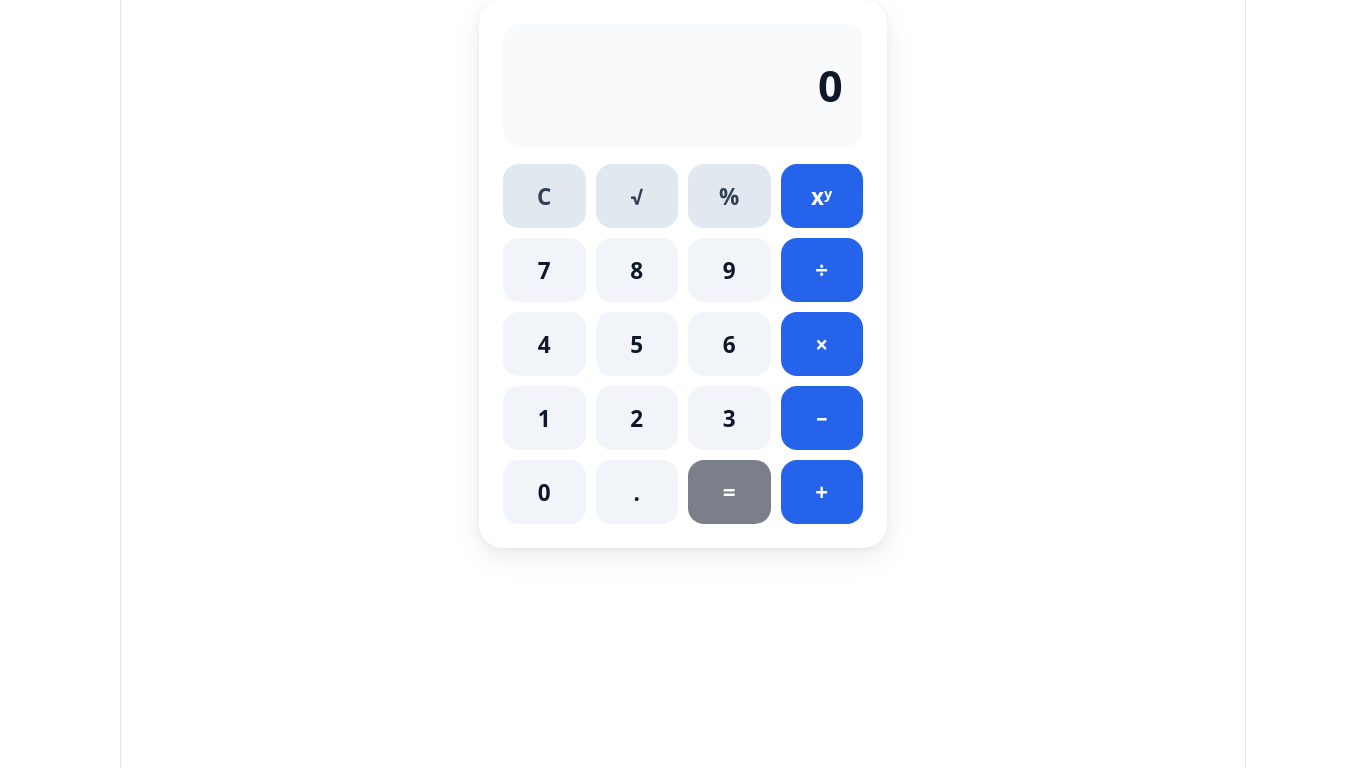
Test: Calculator › calculates exponentiation using the API
Click the button "2": x=637, y=418 [596,386,678,450]
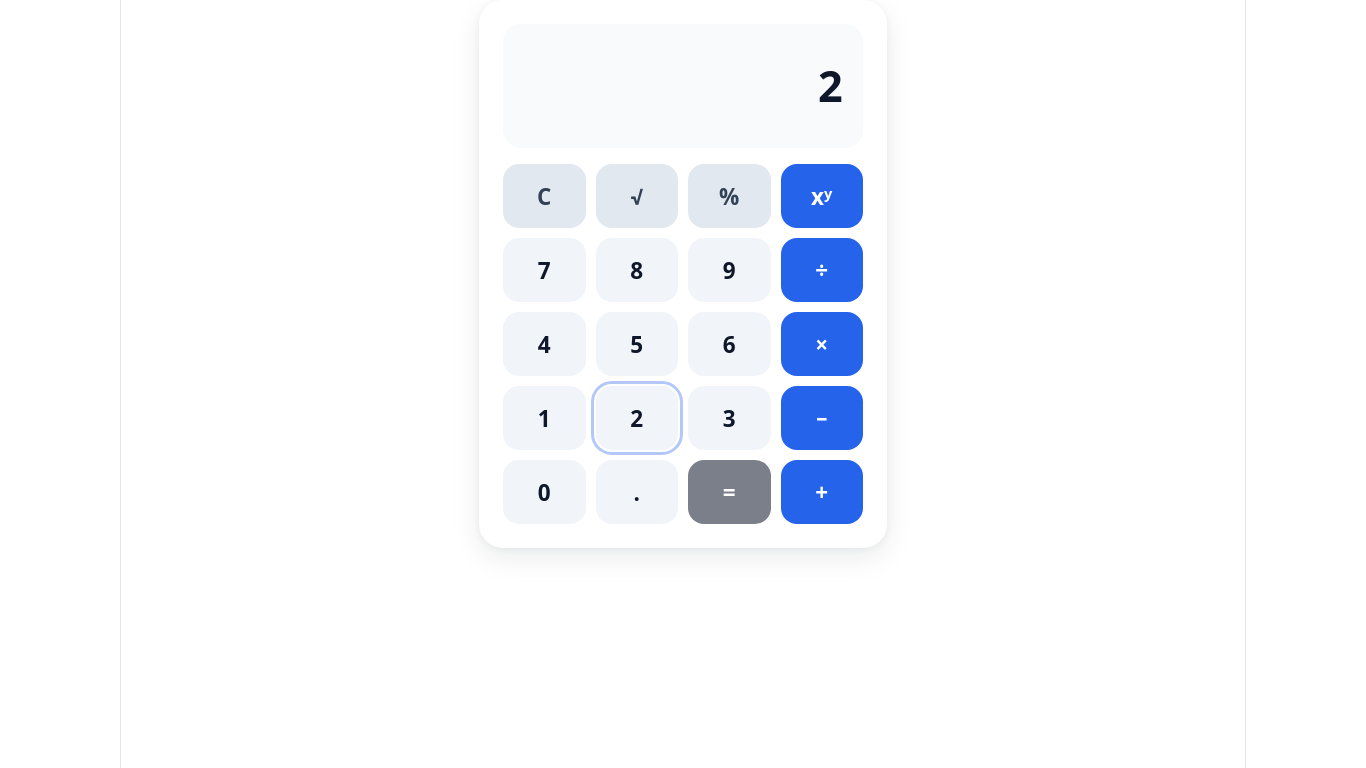
Click the button named "Power": x=822, y=196 [780,164,863,228]
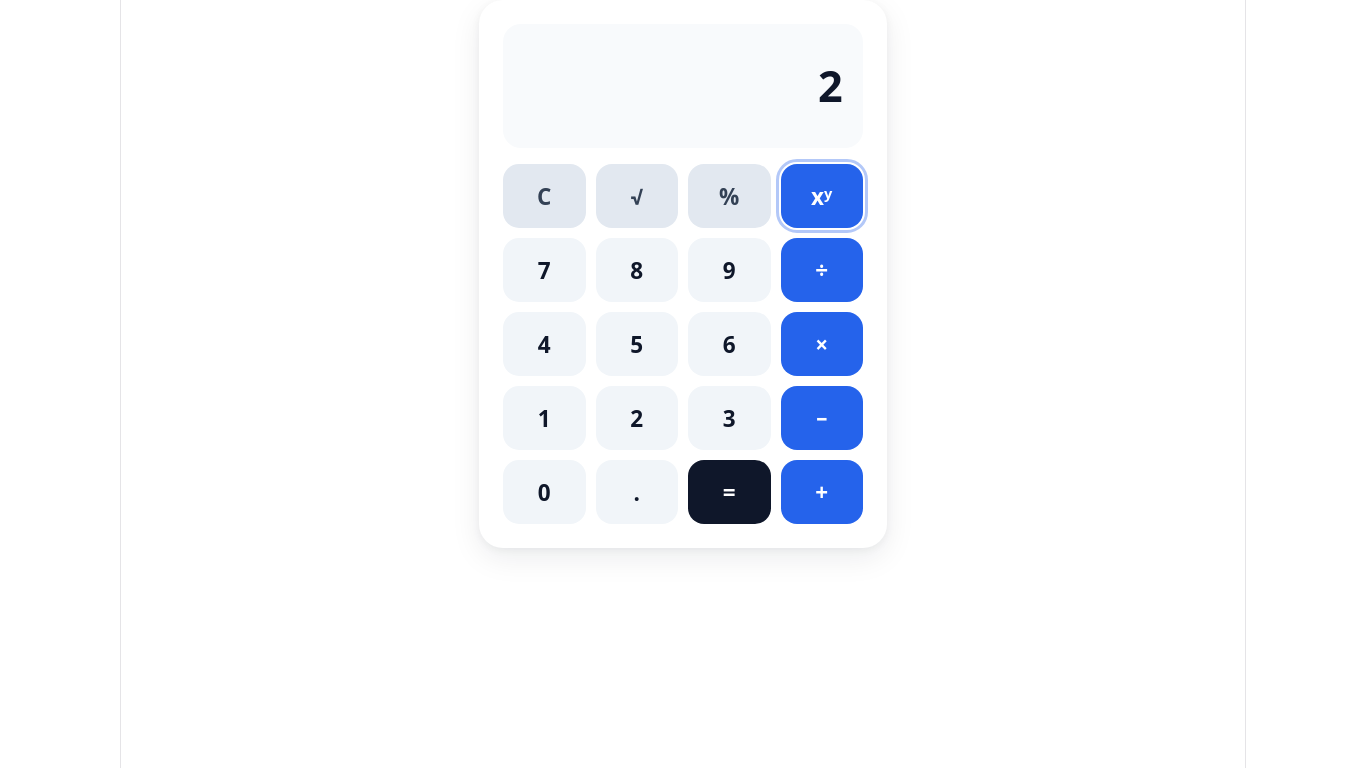
Click the button "8": x=637, y=270 [596,238,678,302]
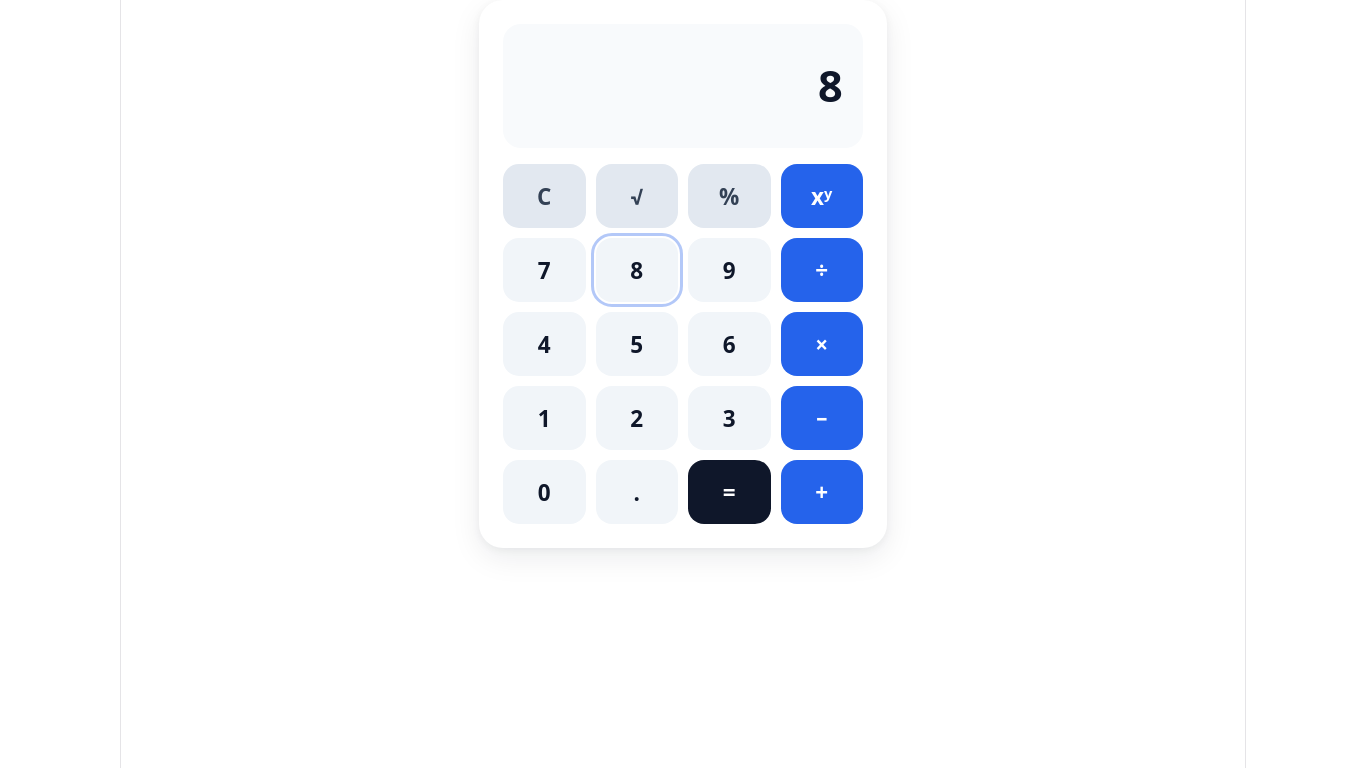
Click the button "=": x=729, y=492 [688,460,770,524]
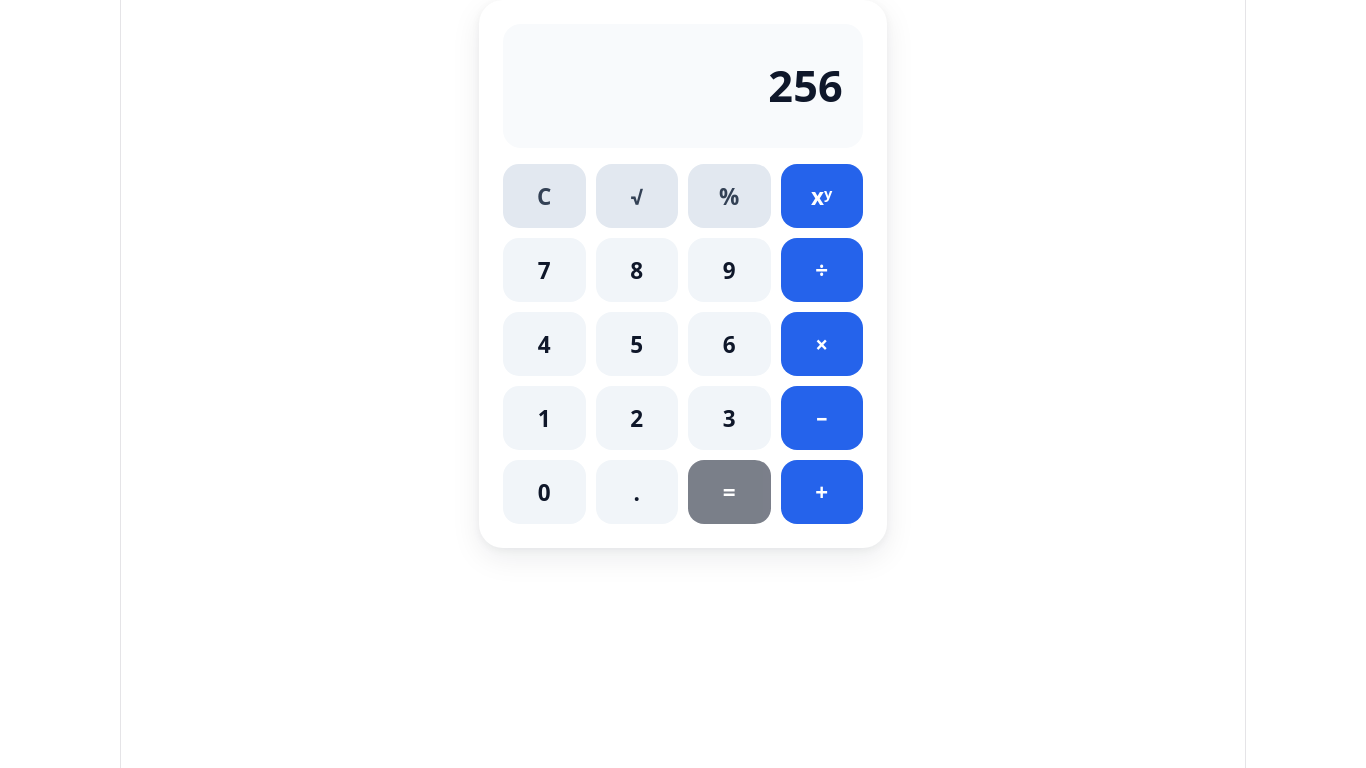
Now the text with class "calculator-display" reads "256", box [768,56,843,115]
